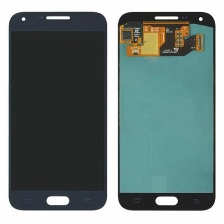phone: (6, 6, 113, 212), (116, 8, 217, 214)
